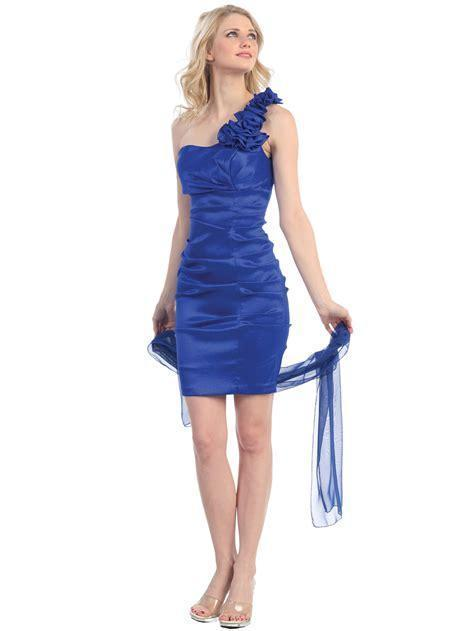dress: (177, 88, 291, 394)
